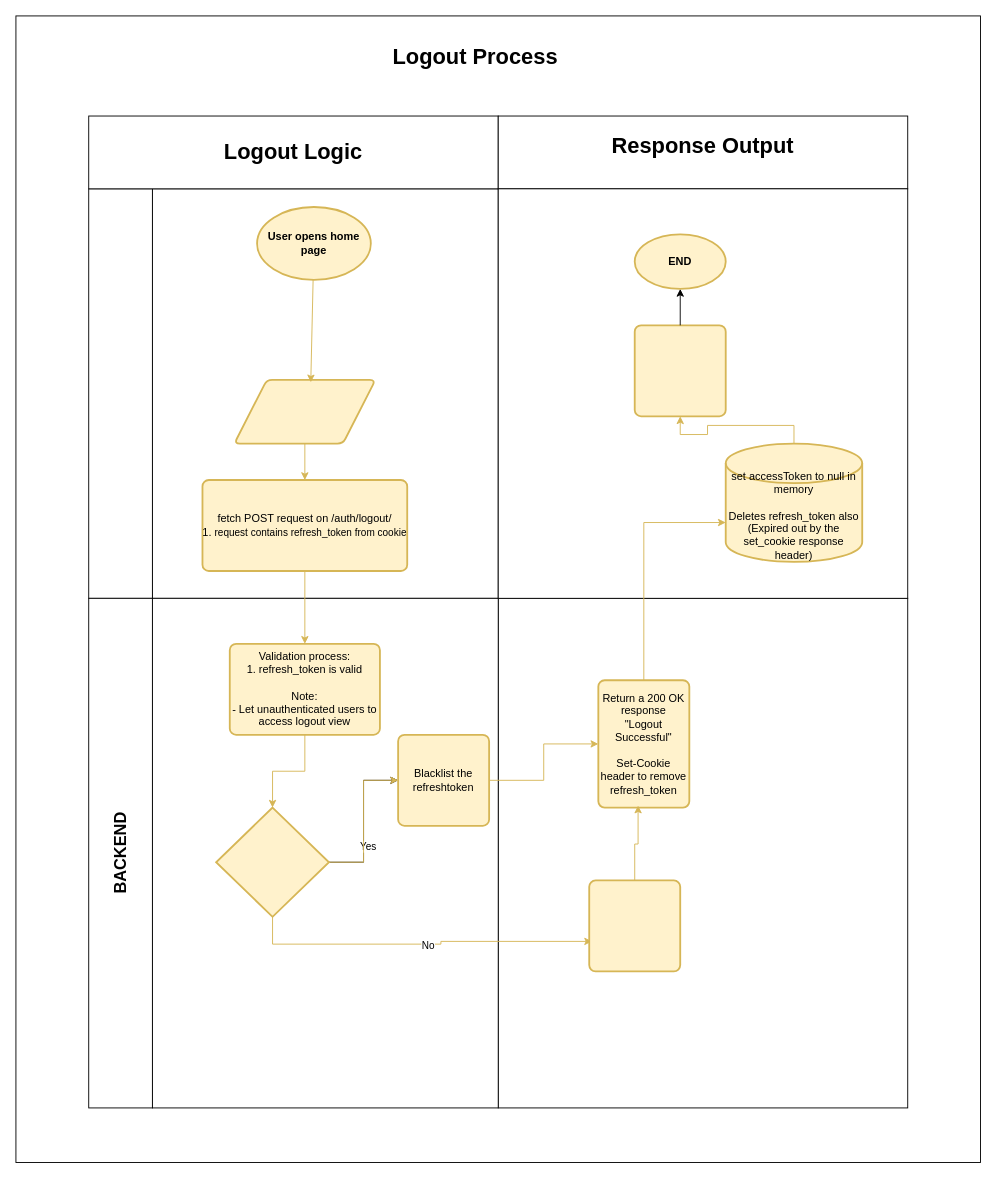
This 996x1178 diagram has some shape labels left out. Here are the shapes that lost their labels. From the top down, the centre of each, then its label:
At point (679, 370): "Redirected to login page".
At point (120, 393): "FRONTEND".
At point (304, 411): "User clicks on logout button from account menu".
At point (272, 861): "refresh_token valid?".
At point (634, 925): "Catch the error and pass".
